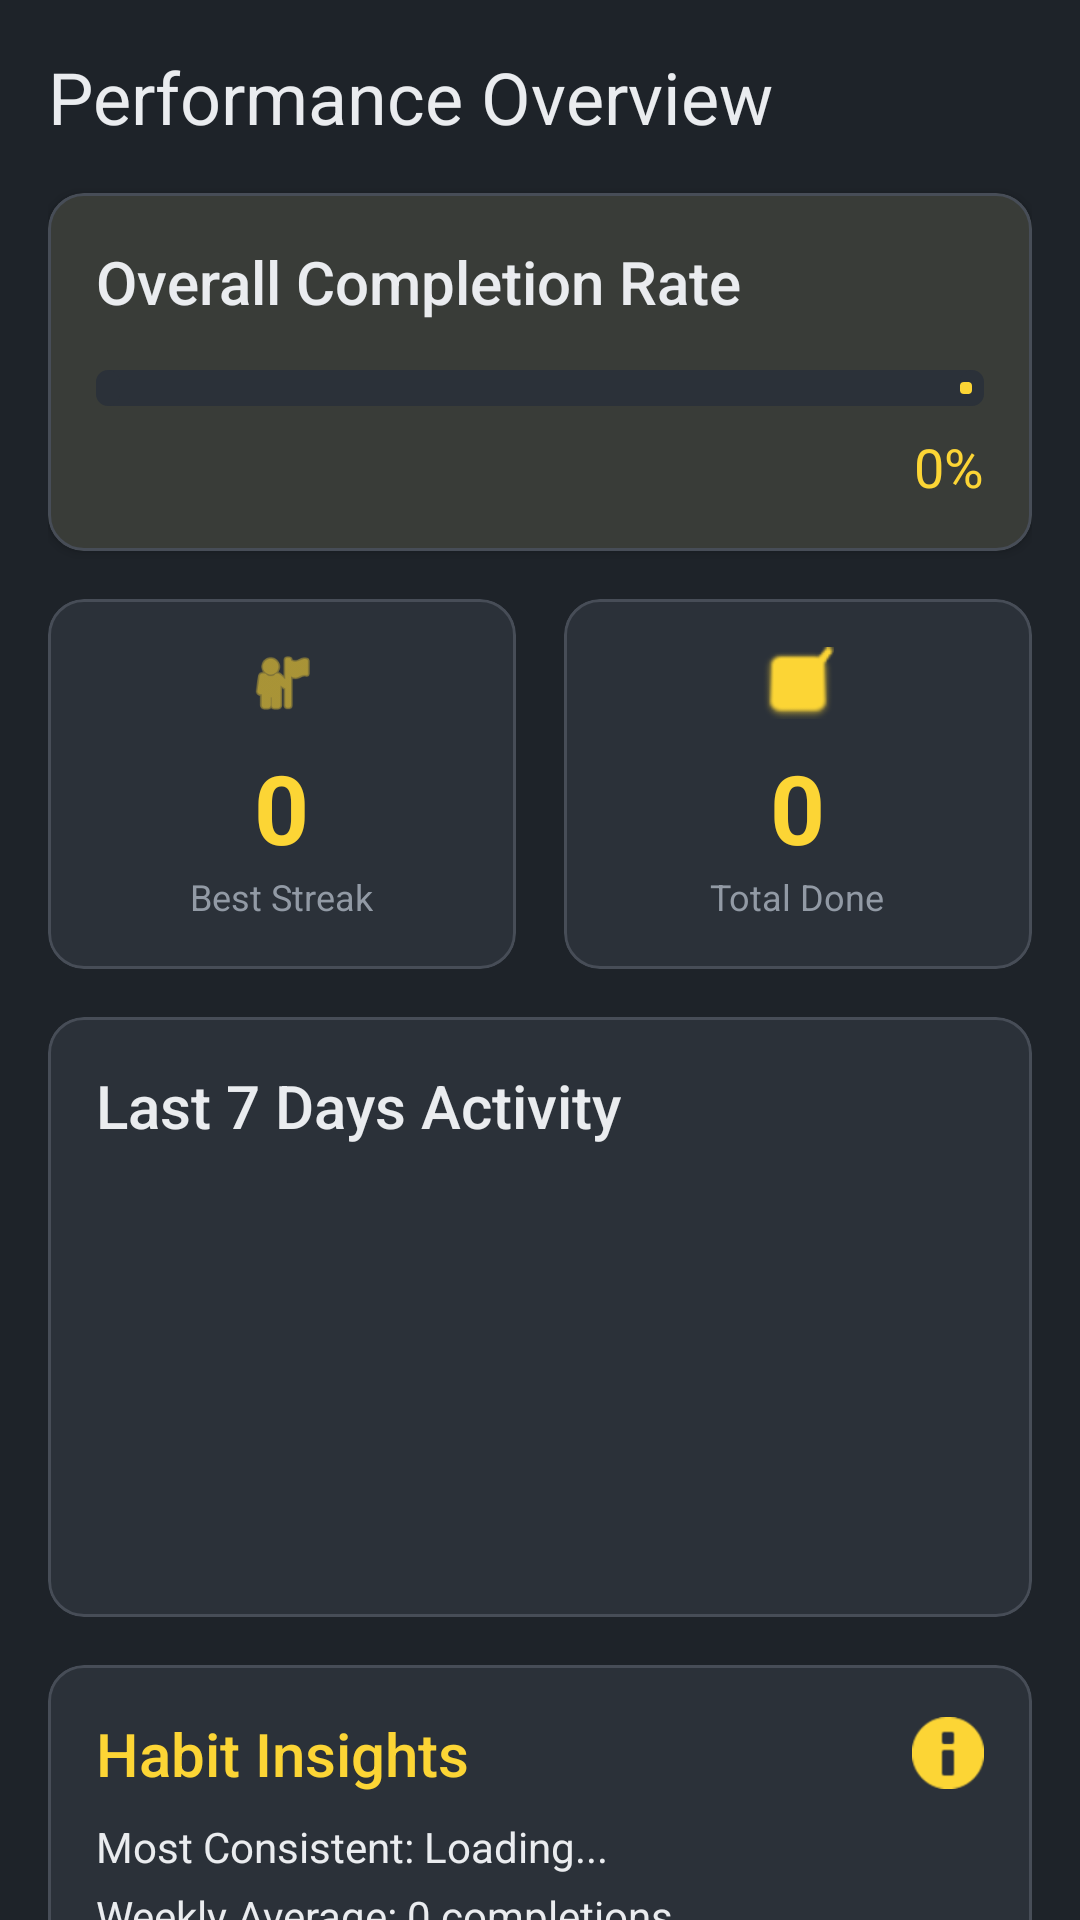

Icons on this 1080 × 1920 Android screen, each with the point to tap as [x,y]:
info: [948,1753]
